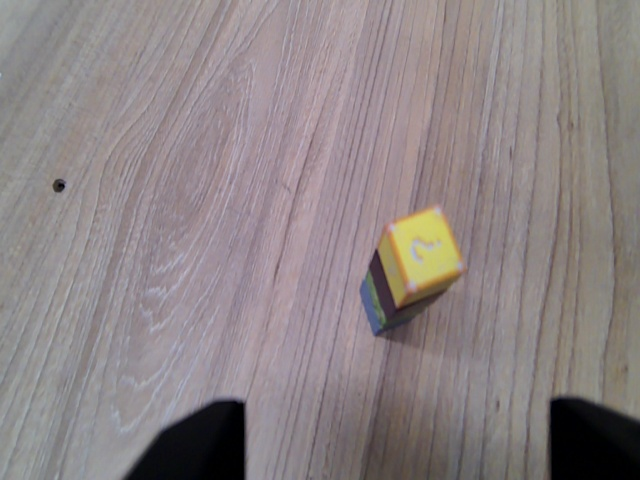brick: (373, 257, 427, 272)
grass: (373, 278, 416, 292)
lucky: (382, 210, 470, 305)
stone: (365, 289, 407, 301)
